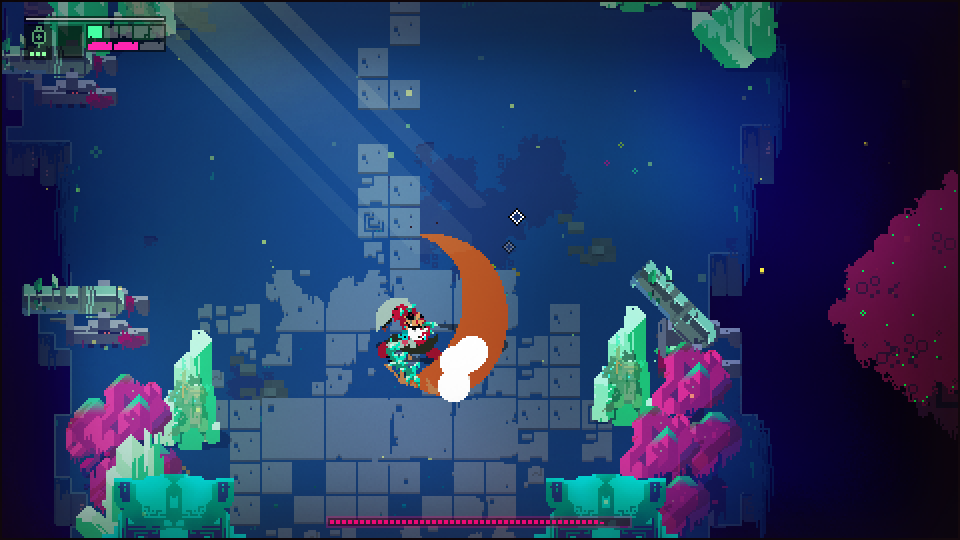hanged_man: (367, 293, 480, 400)
